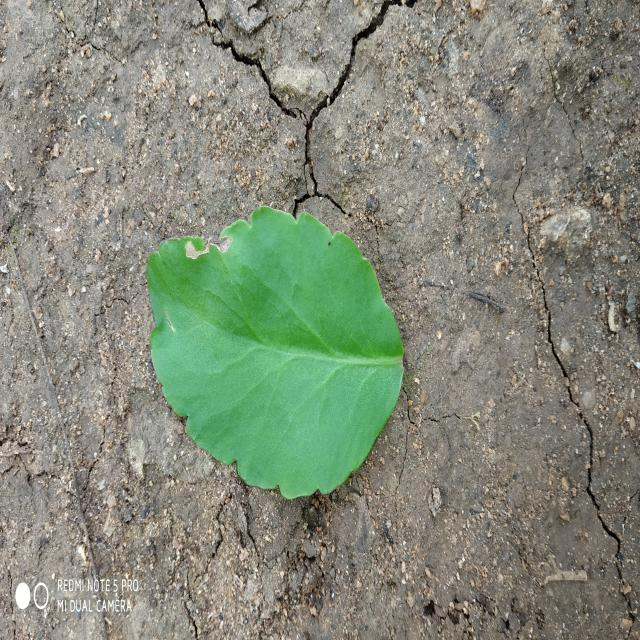defectedspinach: (185, 233, 232, 260)
spinach: (148, 207, 404, 498), (185, 236, 232, 260)
